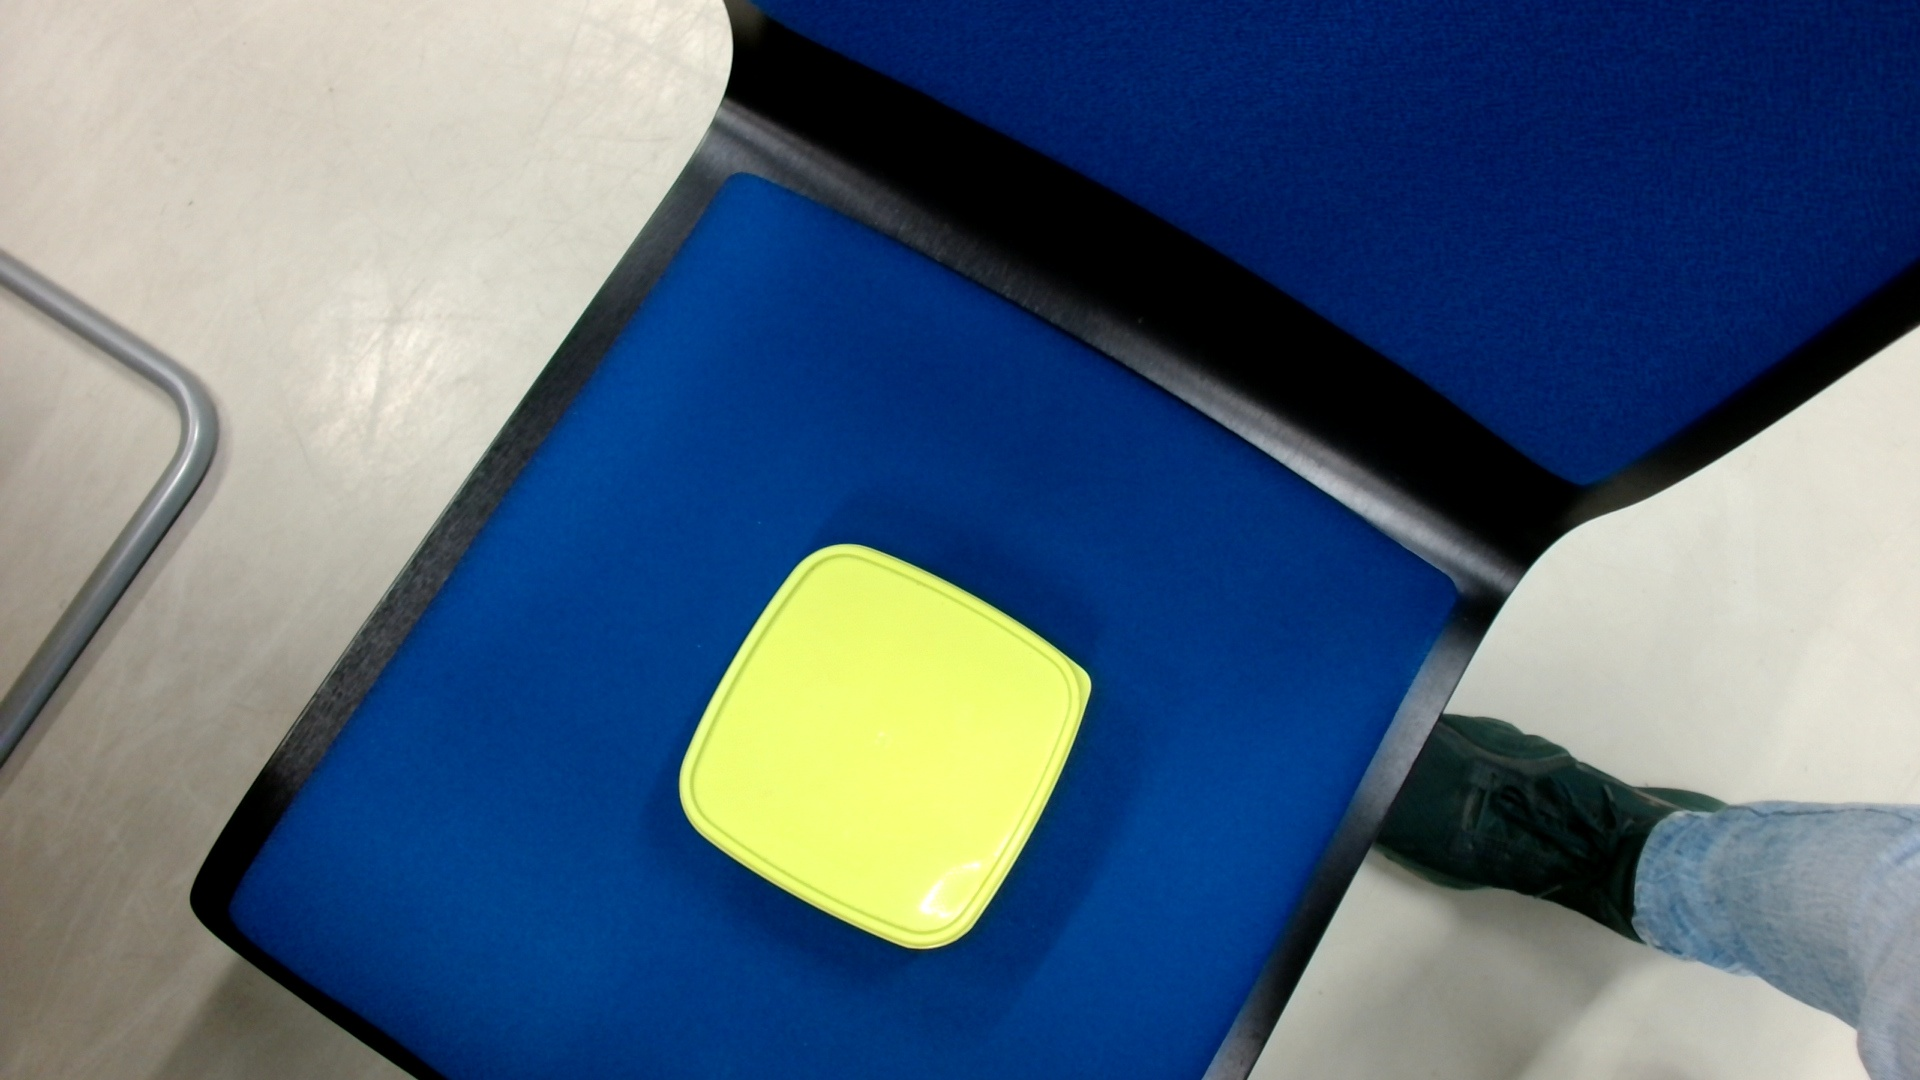Box: (663, 535, 1096, 956)
